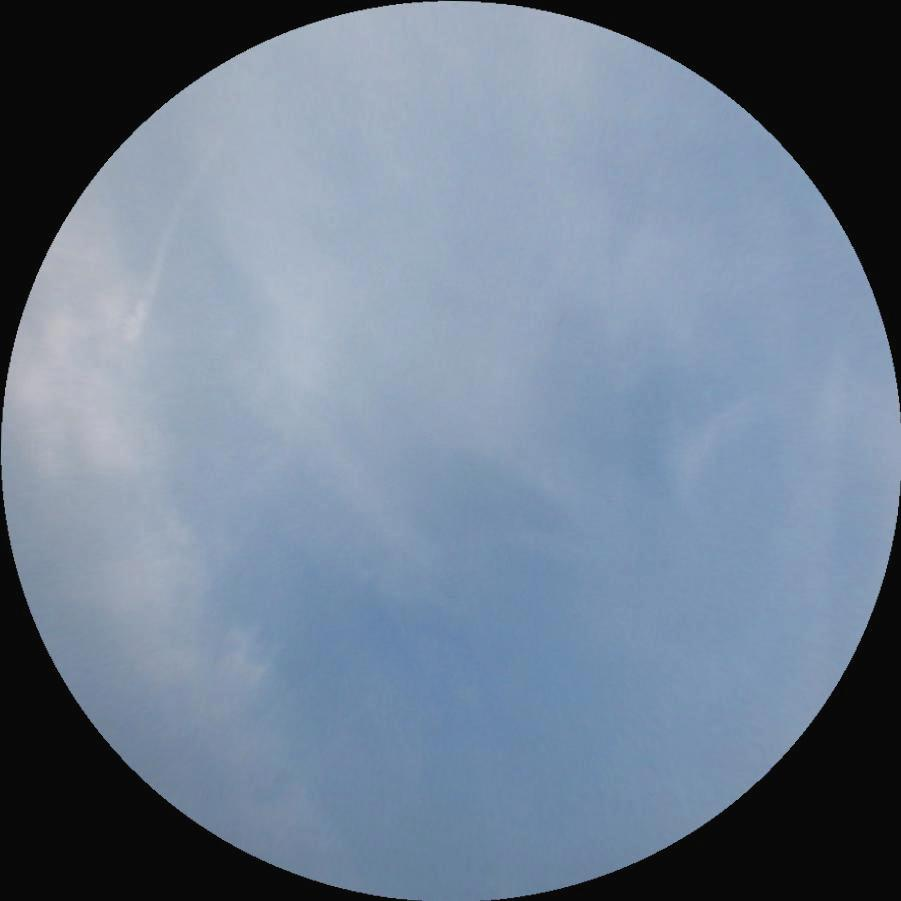contrail veryold: (119, 120, 228, 337)
